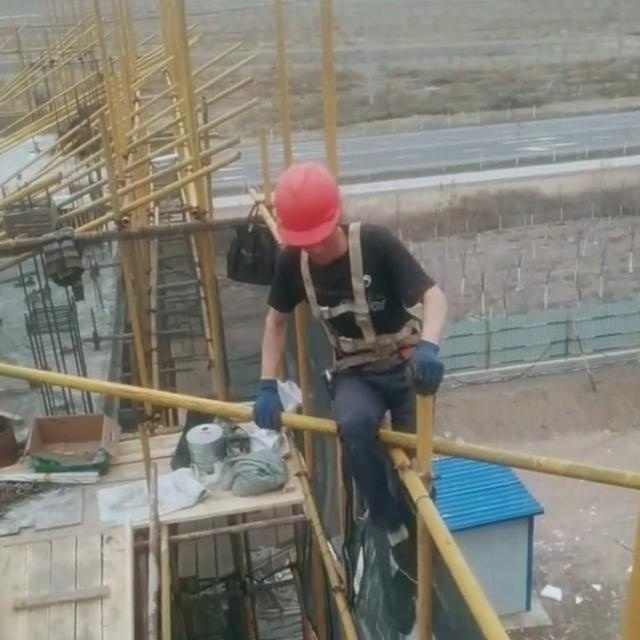Arnes_seguridad: (297, 218, 421, 377)
